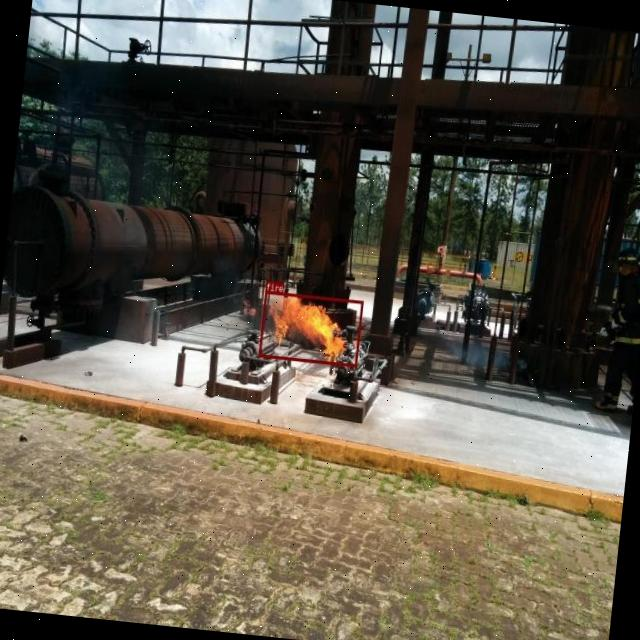fire: (258, 290, 362, 366)
